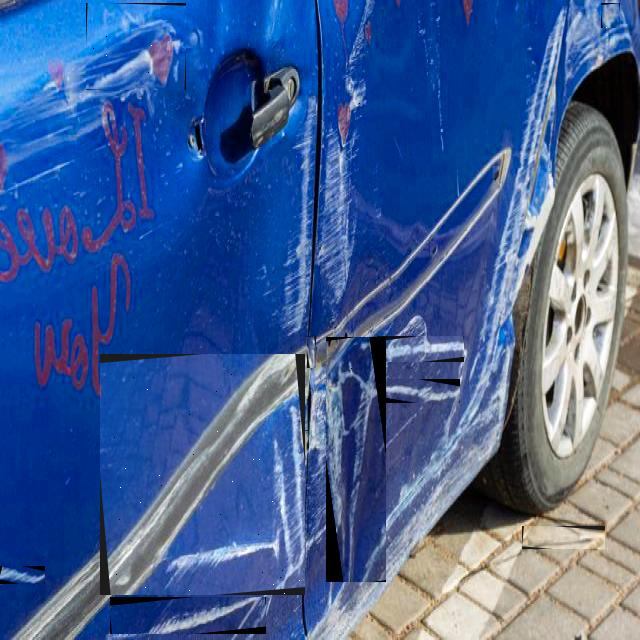Dent: (100, 354, 305, 595), (326, 337, 386, 582), (86, 3, 186, 90), (110, 597, 266, 634), (157, 541, 269, 567), (377, 336, 464, 362), (272, 444, 288, 584), (373, 379, 460, 403), (522, 526, 605, 549), (0, 566, 45, 584), (601, 3, 620, 28), (348, 82, 364, 108), (307, 336, 316, 368), (104, 561, 120, 577), (304, 430, 309, 453), (429, 241, 436, 255), (492, 165, 499, 178)
